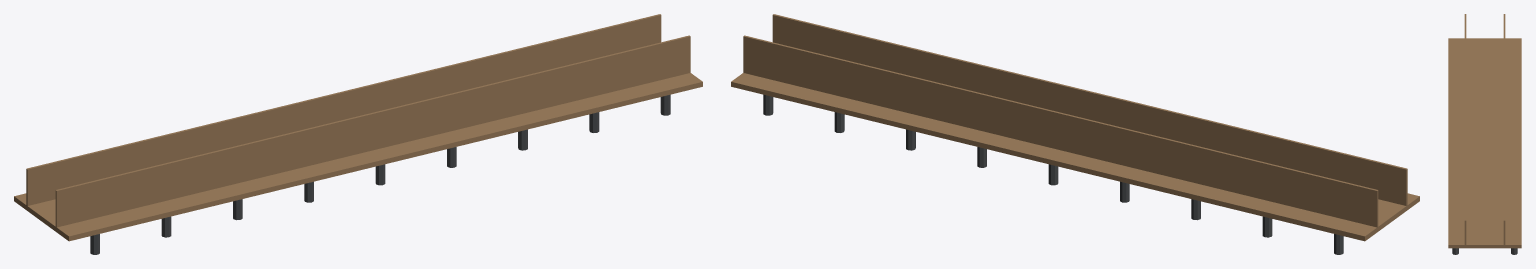
File: SM_Pier.fbx
3 views of the same model, side by side, from view 1: azimuth 30°, elevation 25°; view 2: azimuth 150°, elevation 25°; view 3: azimuth 270°, elevation 25° (orthographic). The views are drawn at different scales.
Visible parts, largest first — view 1: SM_Pier; view 2: SM_Pier; view 3: SM_Pier.
Part boxes in pixels (x1=…): SM_Pier: x1=14, y1=14, x2=702, y2=254; SM_Pier: x1=731, y1=14, x2=1419, y2=254; SM_Pier: x1=1448, y1=14, x2=1521, y2=254.
Size of the model in its own units: 4000 by 600 by 390.
